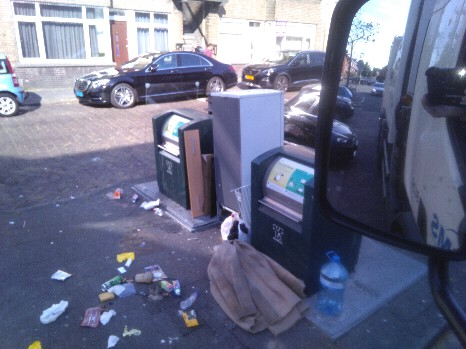Container: (257, 154, 351, 252), (149, 108, 188, 203), (182, 140, 207, 224)
Plastic: (315, 264, 356, 315)
Rest: (210, 80, 262, 220), (211, 247, 286, 323)
